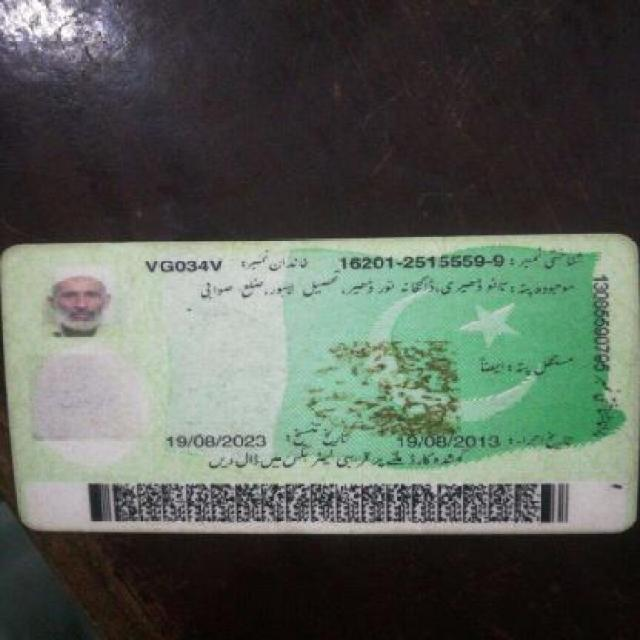Back: (7, 231, 636, 538)
